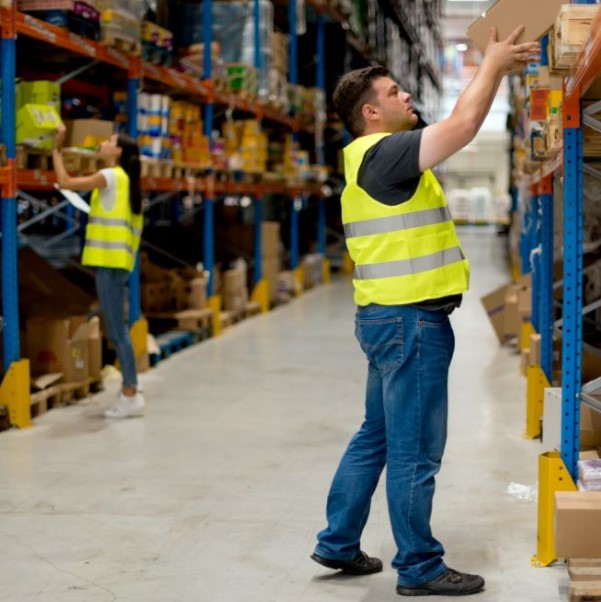worker: (343, 74, 468, 307)
